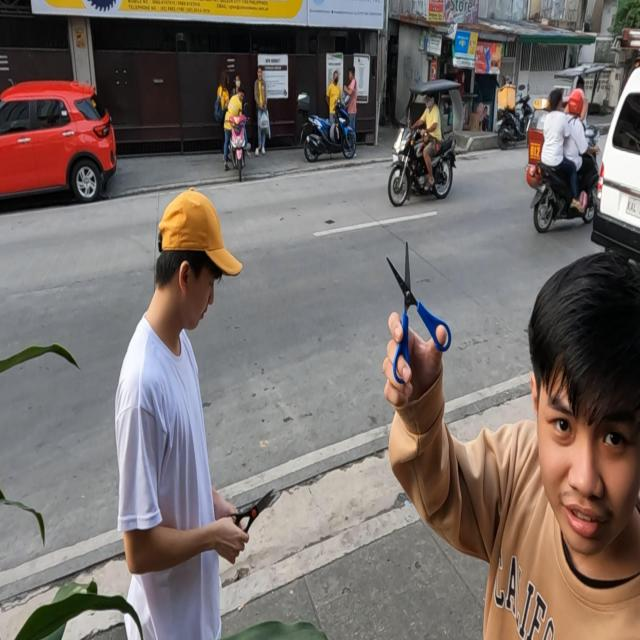scissor: (386, 241, 452, 383), (227, 488, 276, 542)
